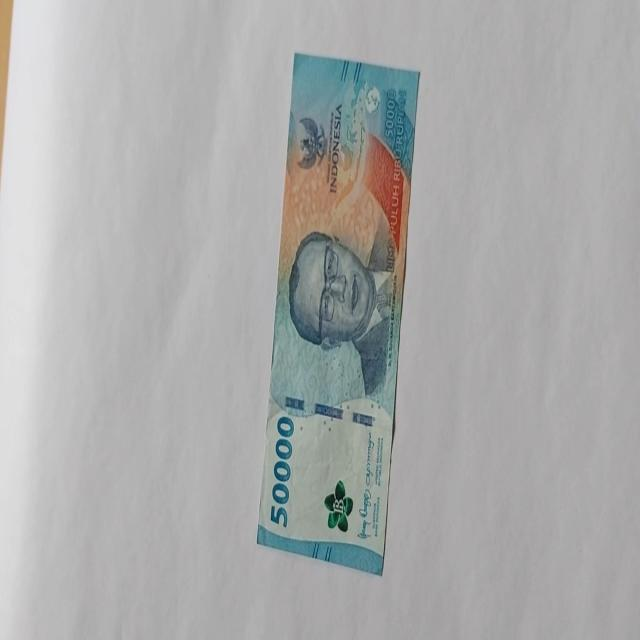lima puluh ribu rupiah: (255, 52, 420, 576)
